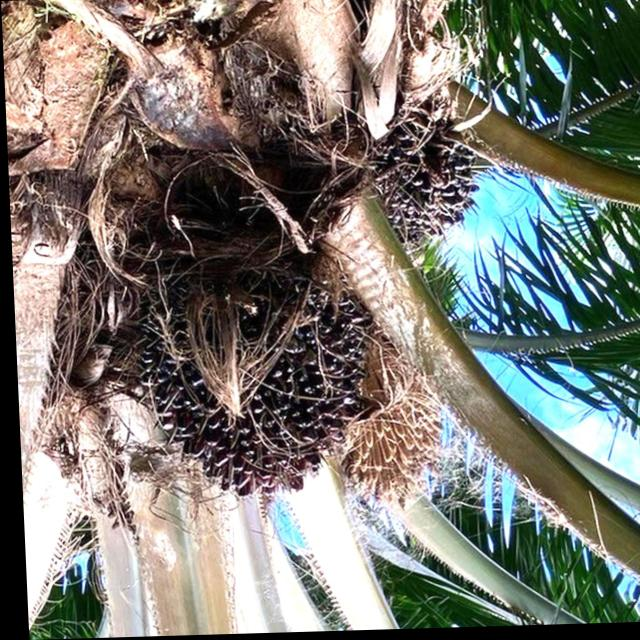ripe: (113, 219, 387, 517)
